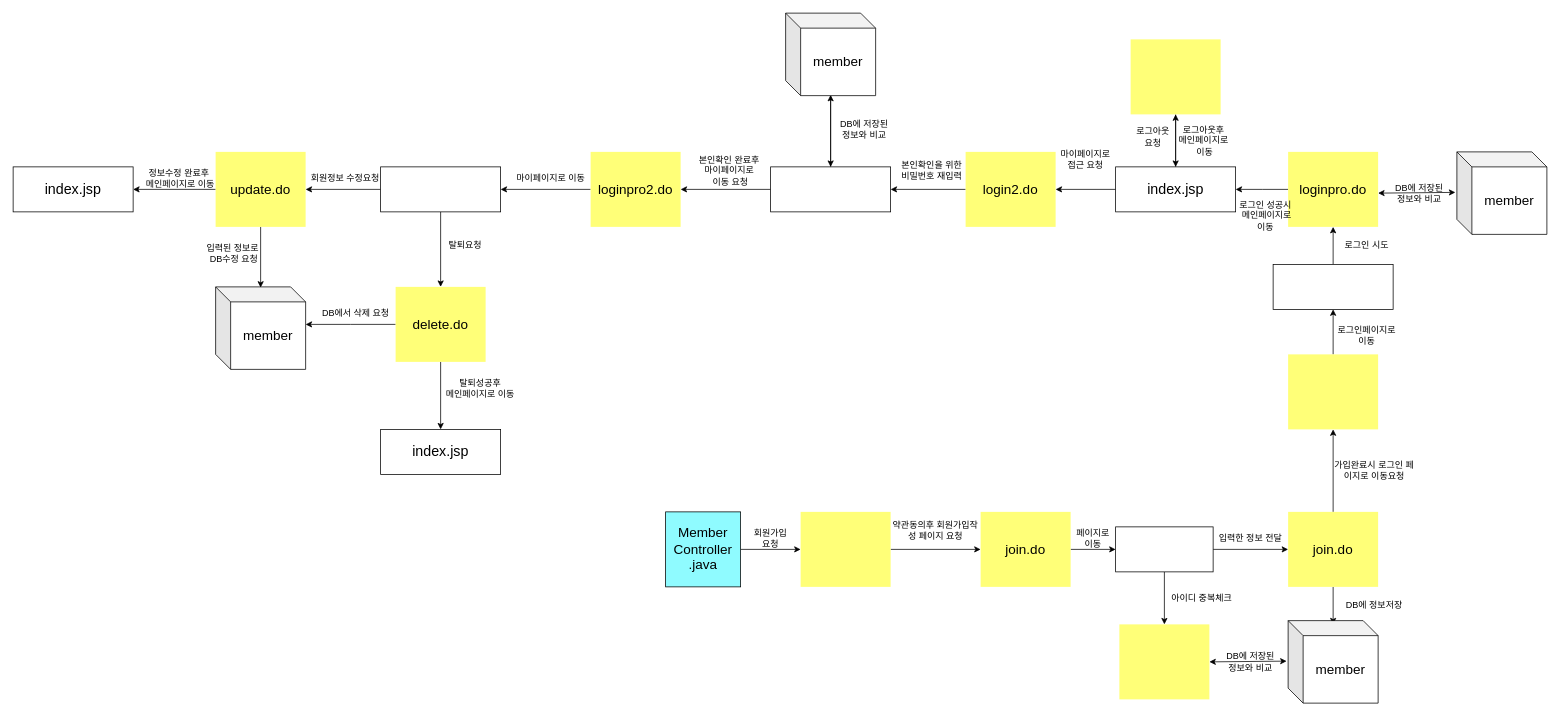
Image size: 1560x716. Some labels were removed from this diagram. The shapes that lost their labels are listed below. From the top down, each one's centre as x and y in pixels, then its label:
pixel 1175 76: logout.do
pixel 440 189: mypage.jsp
pixel 830 189: loginmypage.jsp
pixel 1332 286: login.jsp
pixel 1333 391: login.do
pixel 845 549: term.do
pixel 1164 549: join.jsp
pixel 1164 661: idcheck.do
